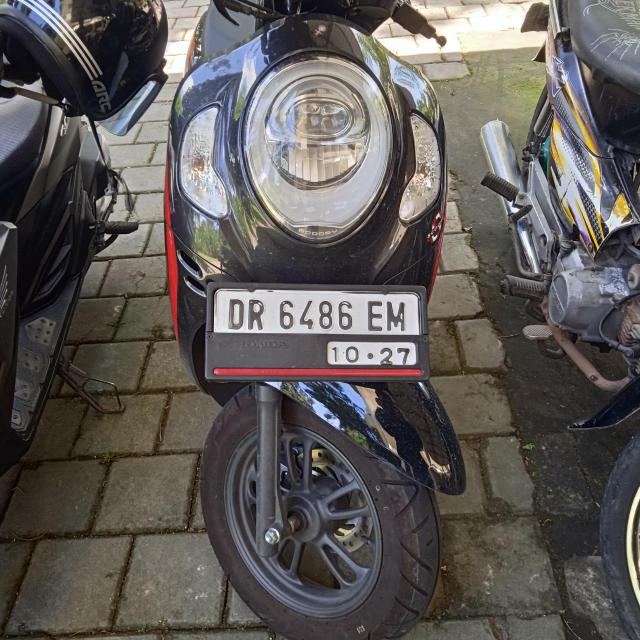plate: (214, 290, 420, 367)
